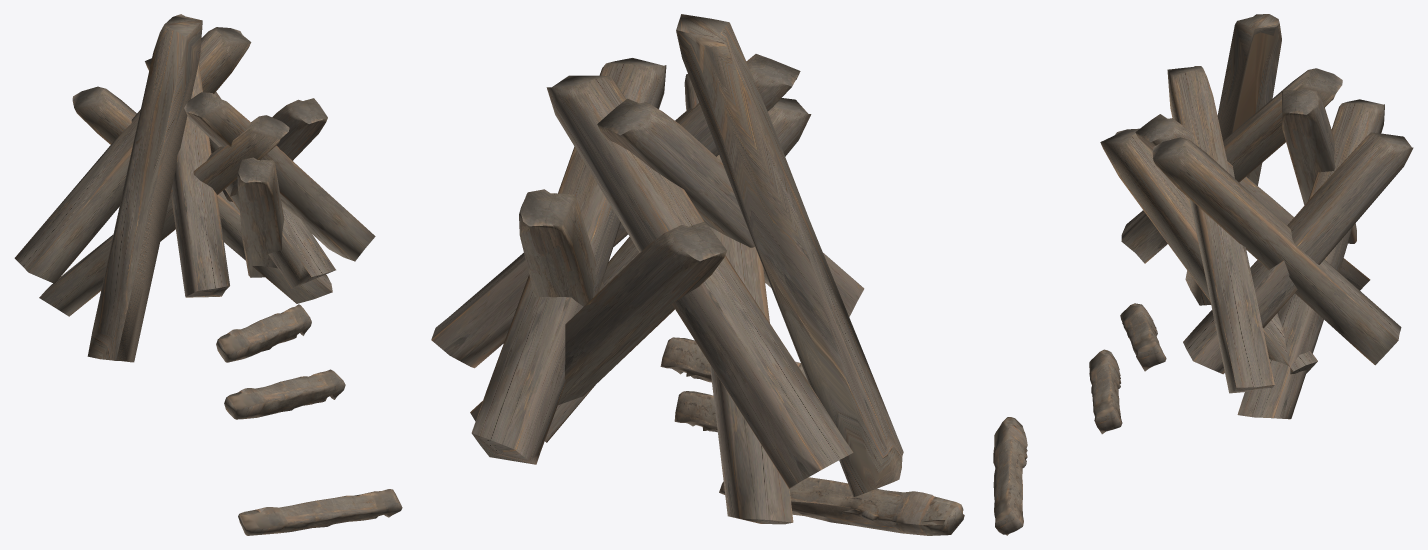
Rendered from HORSE_P_WoodenStand09.FBX.
3 renders of one model, left to right at view 1: azimuth 30°, elevation 25°; view 2: azimuth 150°, elevation 25°; view 3: azimuth 270°, elevation 25°, orthographic. The views are drawn at different scales.
Visible parts, largest first — view 1: HORSE_P_WoodenStand09; view 2: HORSE_P_WoodenStand09; view 3: HORSE_P_WoodenStand09.
Boxes of the visible parts, bbox=[...] form: HORSE_P_WoodenStand09: bbox=[14, 14, 402, 535]; HORSE_P_WoodenStand09: bbox=[431, 14, 964, 535]; HORSE_P_WoodenStand09: bbox=[993, 14, 1413, 535].
Size of the model in its own units: 270 by 360 by 292.
